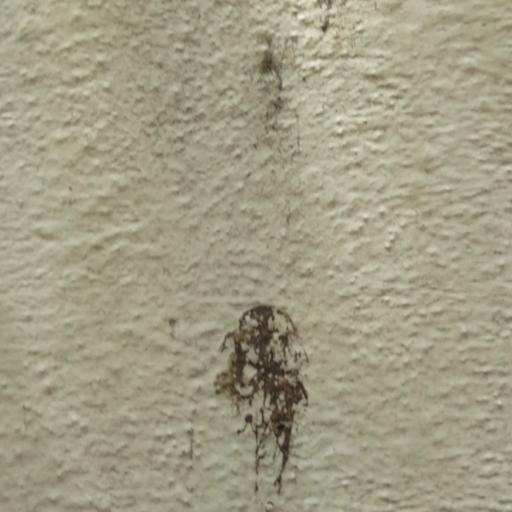stain: (144, 285, 356, 502)
